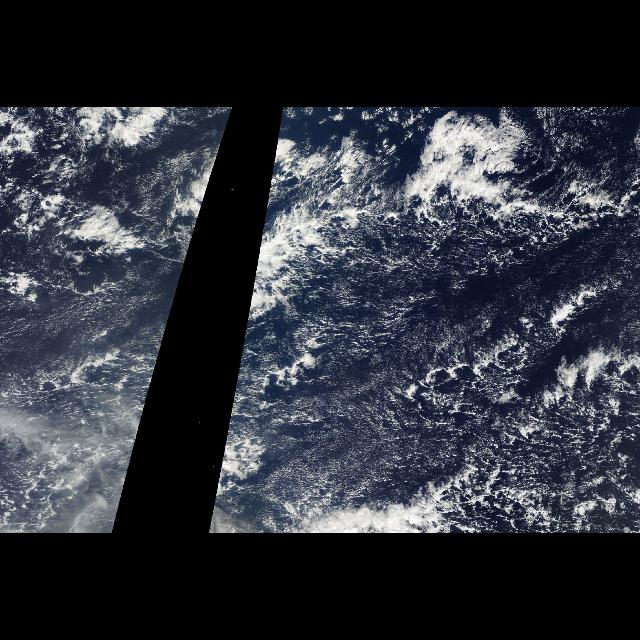Fish: (248, 126, 606, 300), (187, 126, 229, 260)
Gravel: (406, 324, 640, 530)
Sugar: (210, 246, 586, 530), (5, 258, 187, 422)
